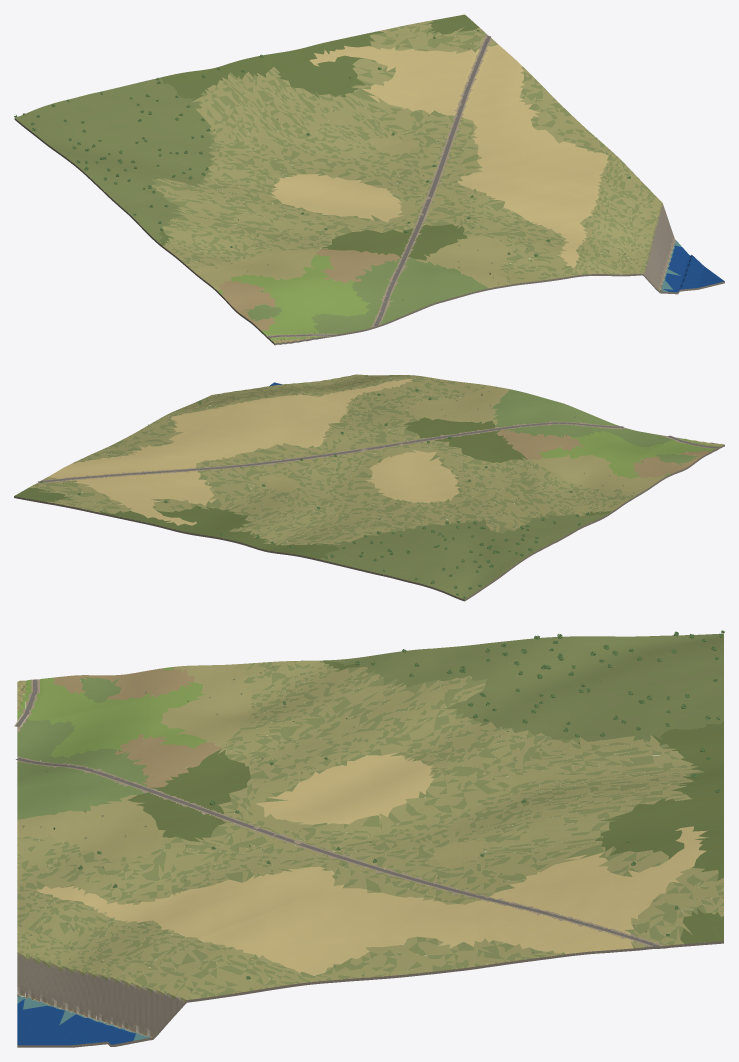
File: parca_+12_-6-yakin.glb
The picture shows the model from 3 angles, top to bottom: view 1: azimuth 30°, elevation 25°; view 2: azimuth 150°, elevation 25°; view 3: azimuth 270°, elevation 25°; orthographic projection. The views are drawn at different scales.
Parts seen in each view (by area): view 1: parca_+12_-6_arazi, parca_+12_-6_yollar, parca_+12_-6_bitkiler; view 2: parca_+12_-6_arazi, parca_+12_-6_yollar, parca_+12_-6_bitkiler; view 3: parca_+12_-6_arazi, parca_+12_-6_yollar, parca_+12_-6_bitkiler.
Part boxes in pixels (x1,y1,x2,y2): parca_+12_-6_arazi: [14, 14, 724, 345]; parca_+12_-6_yollar: [268, 36, 490, 337]; parca_+12_-6_bitkiler: [14, 30, 659, 340]; parca_+12_-6_arazi: [14, 374, 724, 601]; parca_+12_-6_yollar: [38, 422, 718, 482]; parca_+12_-6_bitkiler: [40, 375, 714, 598]; parca_+12_-6_arazi: [17, 633, 723, 1047]; parca_+12_-6_yollar: [14, 679, 659, 946]; parca_+12_-6_bitkiler: [21, 630, 724, 993].
Bounding box in the file's own units: 1005 × 197 × 1006.
